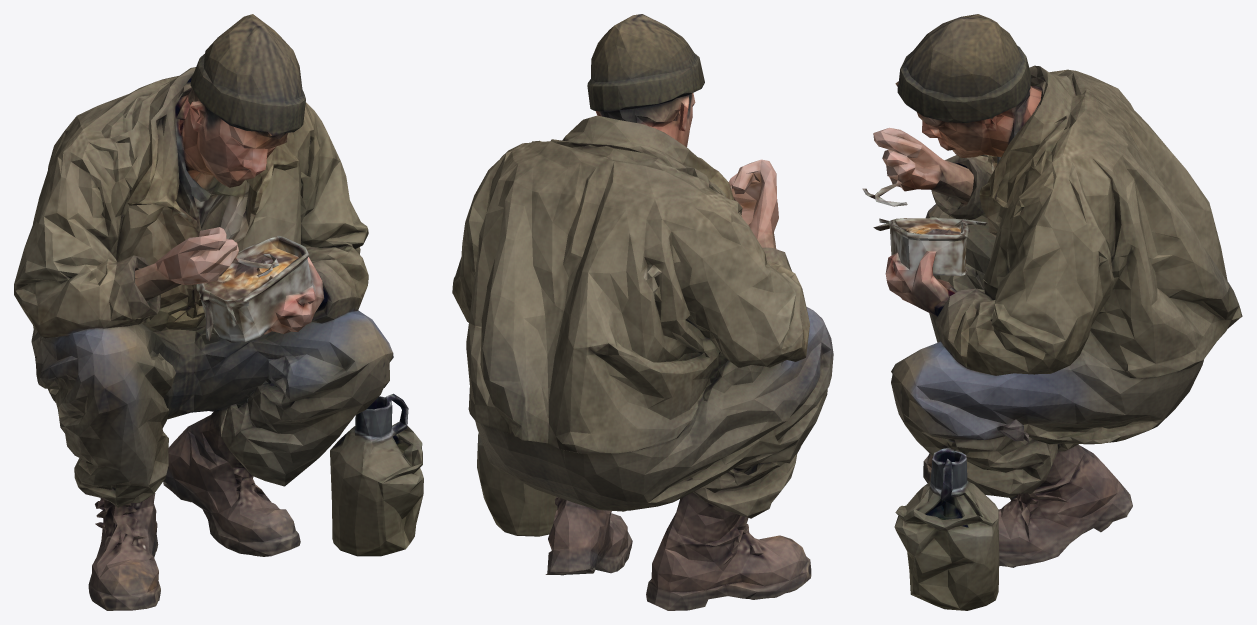
Rendered from crew_us_mess.obj.
3 renders of one model, left to right at view 1: azimuth 30°, elevation 25°; view 2: azimuth 150°, elevation 25°; view 3: azimuth 270°, elevation 25°, orthographic. The views are drawn at different scales.
Visible parts, largest first — view 1: crew_us_mess; view 2: crew_us_mess; view 3: crew_us_mess.
Boxes of the visible parts, x1,y1,x2,y2 form: crew_us_mess: (14,14,423,610); crew_us_mess: (452,14,833,610); crew_us_mess: (862,14,1242,610).
Bounding box in the file's own units: 0.7924 × 1.15 × 0.7512.
1 material, 1 textured.
